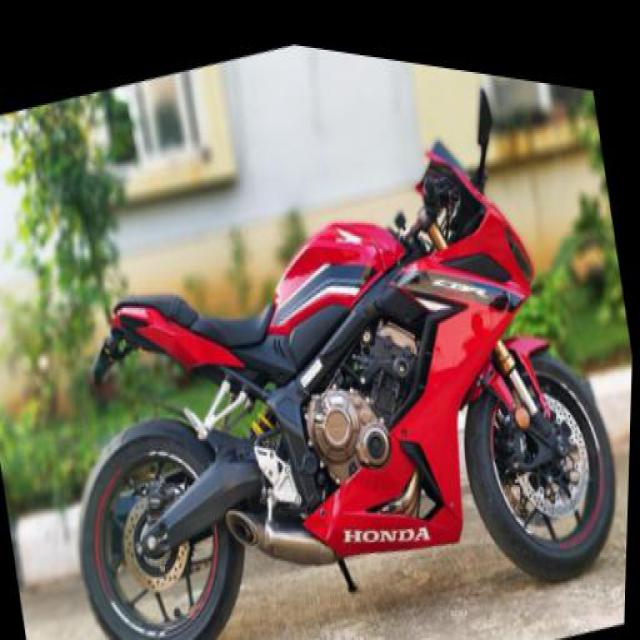CBR650R: (24, 24, 638, 638)
